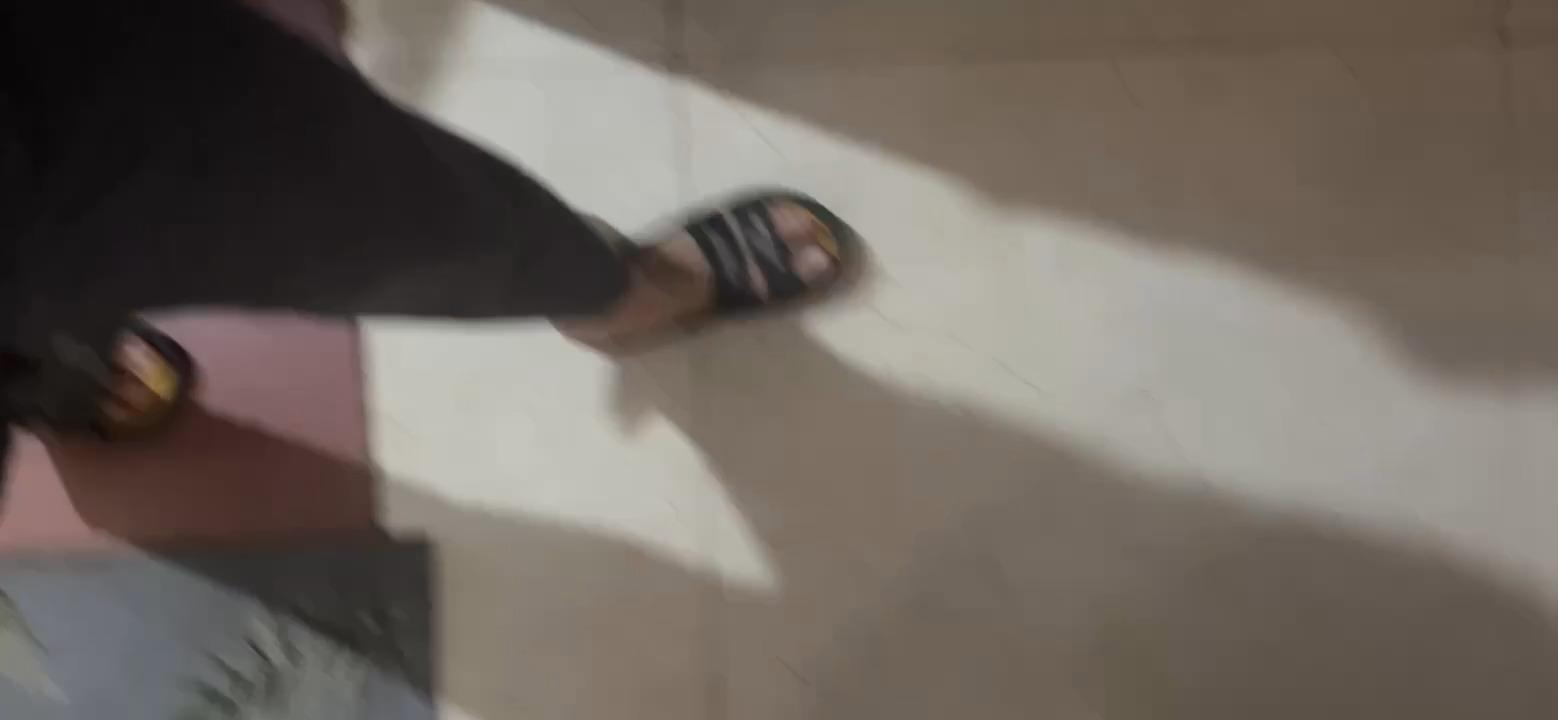no-boot: (587, 191, 850, 328)
